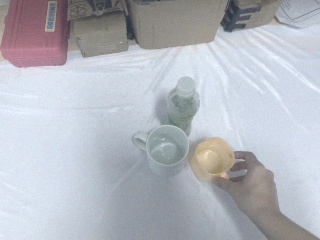bottle: (166, 77, 200, 137)
box: (124, 1, 231, 49)
cup: (132, 125, 190, 178), (189, 136, 236, 182)
